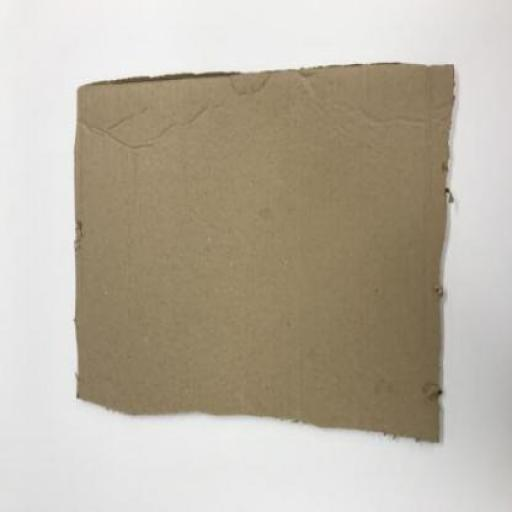cardboard: (72, 65, 455, 441)
